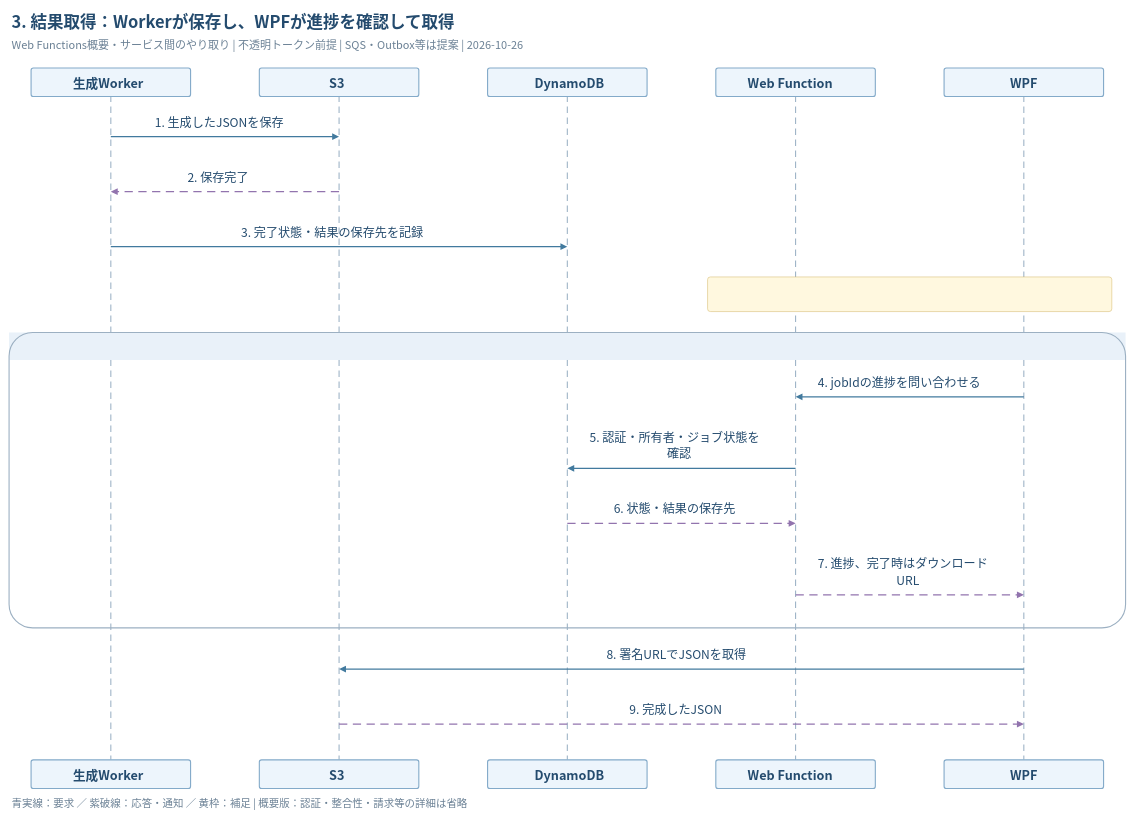
Image size: 1135x819. Some labels were removed from this diagram. The shapes that lost their labels are listed below. From the top down, each one's box as (x1, y1, x2, y2) in pixels, then its label:
(707, 276, 1112, 312): 以下のAPI通信は図1と同じCloudFront経由
(9, 332, 1125, 360): loop：完了まで進捗を確認
